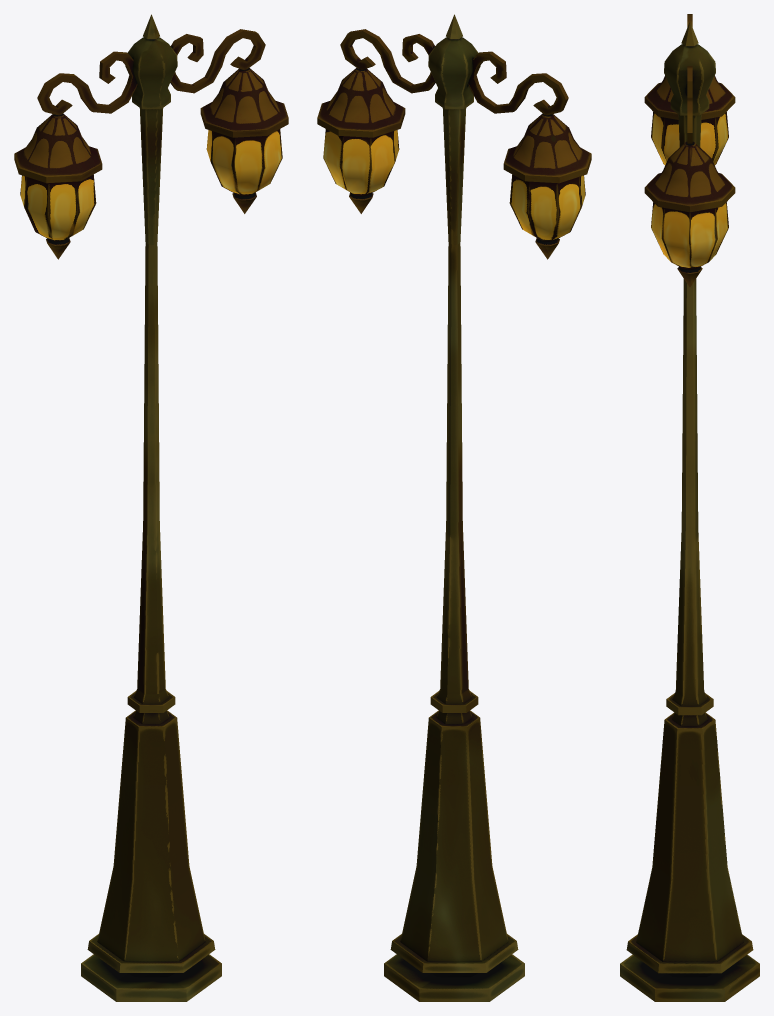
Rendered from Lamparina.fbx.
3 views of the same model, side by side, from view 1: azimuth 30°, elevation 25°; view 2: azimuth 150°, elevation 25°; view 3: azimuth 270°, elevation 25° (orthographic).
Visible parts, largest first — view 1: street_light_base, lamp, hanger; view 2: street_light_base, lamp, hanger; view 3: street_light_base, lamp, hanger.
Boxes of the visible parts, left/top/right/bottom form: street_light_base: left=81, top=14, right=221, bottom=1001; lamp: left=14, top=68, right=288, bottom=259; hanger: left=37, top=29, right=265, bottom=115; street_light_base: left=384, top=14, right=524, bottom=1001; lamp: left=317, top=68, right=591, bottom=259; hanger: left=340, top=29, right=568, bottom=115; street_light_base: left=620, top=22, right=759, bottom=1001; lamp: left=644, top=75, right=735, bottom=286; hanger: left=687, top=14, right=692, bottom=143.
Bounding box in the file's own units: 122 × 421 × 55.91.
